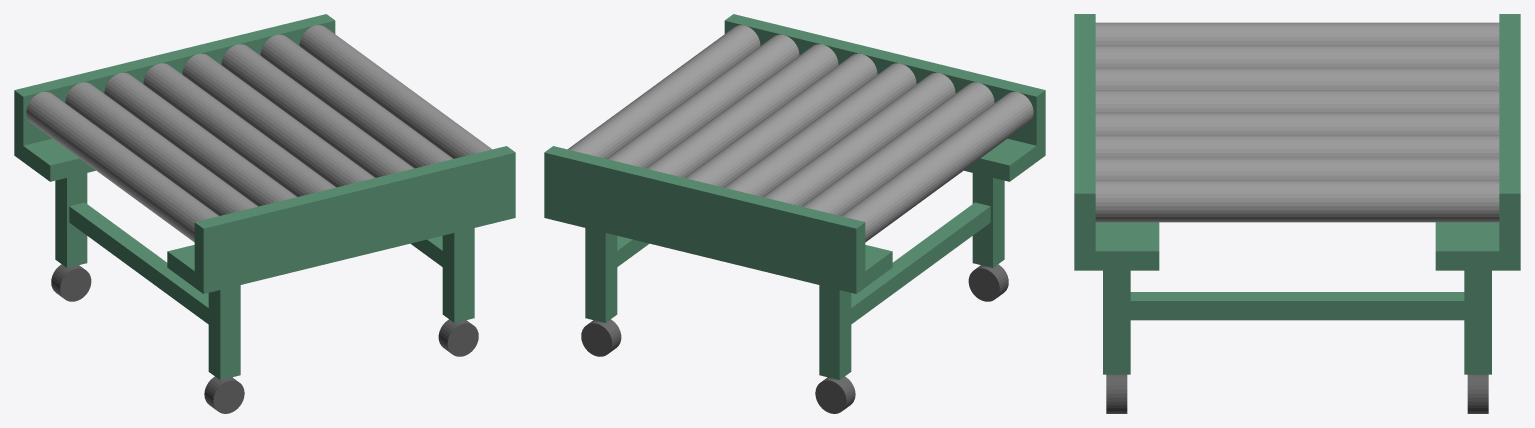
Rendered from plateform_conveyor_ver3.gltf.
3 renders of one model, left to right at view 1: azimuth 30°, elevation 25°; view 2: azimuth 150°, elevation 25°; view 3: azimuth 270°, elevation 25°, orthographic. The views are drawn at different scales.
Parts seen in each view (by area): view 1: RightFrame, Roller_0, Roller_5, Roller_3, Roller_4, Roller_6, Roller_7, Roller_1, Roller_2, RightBottonFrame, LeftFrame, LeftBottonFrame.002 (+8 smaller); view 2: LeftFrame, Roller_0, Roller_5, Roller_3, Roller_4, Roller_6, Roller_7, Roller_1, Roller_2, LeftBottonFrame, RightFrame, LeftBottonFrame.002 (+8 smaller); view 3: Roller_7, Roller_0, Roller_2, LeftBottonFrame.001, Roller_1, Roller_3, Roller_5, Roller_4, Roller_6, LeftFrame, RightFrame, RightBottonFrame (+5 smaller).
Boxes of the visible parts, <box> form: RightFrame: <box>194,146,515,277</box>; Roller_0: <box>26,91,218,242</box>; Roller_5: <box>221,44,413,177</box>; Roller_3: <box>143,63,335,196</box>; Roller_4: <box>182,53,374,187</box>; Roller_6: <box>260,34,452,168</box>; Roller_7: <box>299,25,492,158</box>; Roller_1: <box>65,82,257,215</box>; Roller_2: <box>104,72,296,206</box>; RightBottonFrame: <box>167,201,515,293</box>; LeftFrame: <box>14,14,335,145</box>; LeftBottonFrame.002: <box>69,202,208,324</box>; LeftFrame: <box>544,146,865,277</box>; Roller_0: <box>841,91,1033,242</box>; Roller_5: <box>646,44,838,177</box>; Roller_3: <box>724,63,916,196</box>; Roller_4: <box>685,53,877,187</box>; Roller_6: <box>607,34,799,168</box>; Roller_7: <box>567,25,760,158</box>; Roller_1: <box>802,82,994,215</box>; Roller_2: <box>763,72,955,206</box>; LeftBottonFrame: <box>544,201,892,293</box>; RightFrame: <box>724,14,1045,145</box>; LeftBottonFrame.002: <box>851,202,990,324</box>; Roller_7: <box>1095,180,1499,222</box>; Roller_0: <box>1095,22,1499,45</box>; Roller_2: <box>1095,67,1499,90</box>; LeftBottonFrame.001: <box>1130,292,1464,320</box>; Roller_1: <box>1095,45,1499,67</box>; Roller_3: <box>1095,90,1499,112</box>; Roller_5: <box>1095,135,1499,157</box>; Roller_4: <box>1095,112,1499,134</box>; Roller_6: <box>1095,157,1499,179</box>; LeftFrame: <box>1499,14,1520,251</box>; RightFrame: <box>1074,14,1095,251</box>; RightBottonFrame: <box>1074,222,1159,270</box>.
Bounding box in the file's own units: 2 × 1.25 × 2.1.
